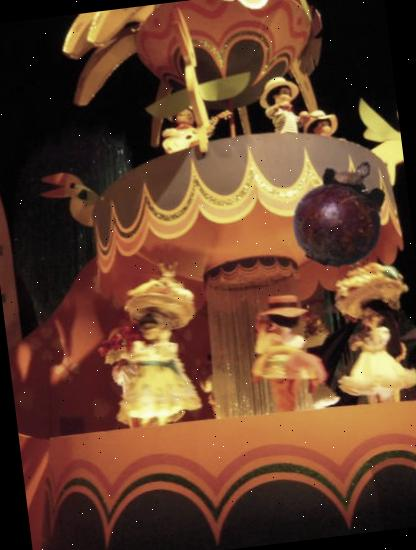Mangostan: (280, 149, 405, 274)
